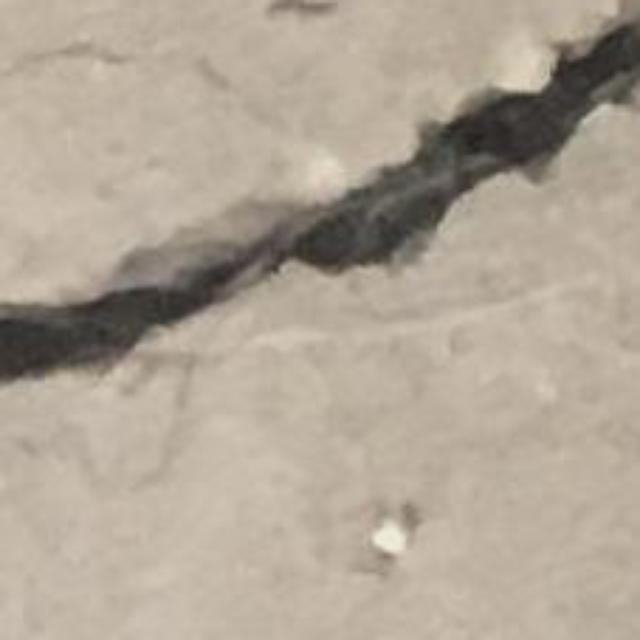crack: (0, 0, 639, 382)
